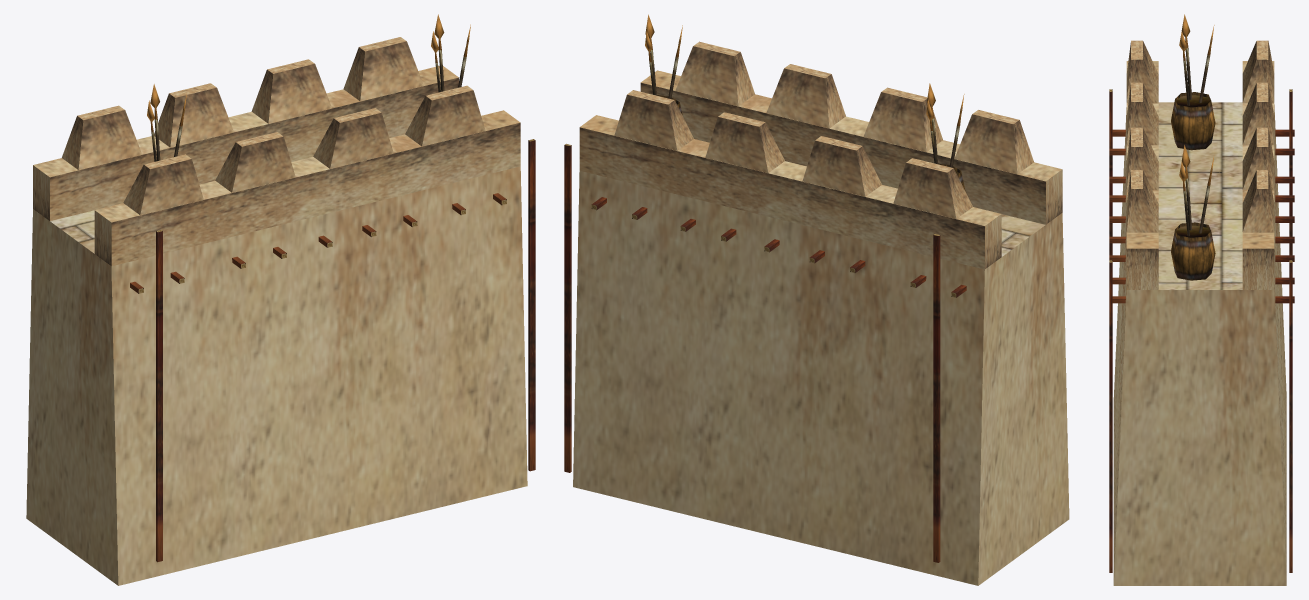
Rendered from wall_medium.dae.
The picture shows the model from 3 angles, left to right: view 1: azimuth 30°, elevation 25°; view 2: azimuth 150°, elevation 25°; view 3: azimuth 270°, elevation 25°; orthographic projection. The views are drawn at different scales.
Visible parts, largest first — view 1: wall_medium; view 2: wall_medium; view 3: wall_medium.
Boxes of the visible parts, x1=… form: wall_medium: x1=26, y1=14, x2=535, y2=585; wall_medium: x1=564, y1=14, x2=1069, y2=585; wall_medium: x1=1109, y1=14, x2=1294, y2=585.
Size of the model in its own units: 18.32 by 7.36 by 18.22.
